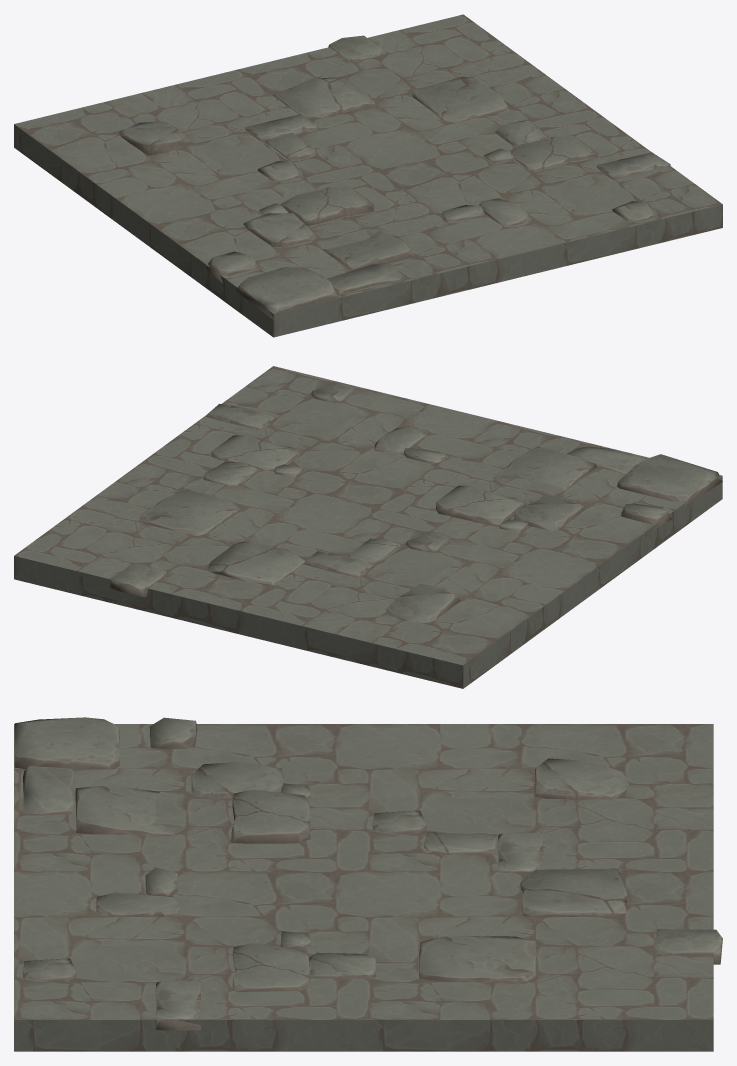
The model's file is SM_FW01_Ruins_Int_Floor_4x4_01.fbx.
The picture shows the model from 3 angles, top to bottom: view 1: azimuth 30°, elevation 25°; view 2: azimuth 150°, elevation 25°; view 3: azimuth 270°, elevation 25°; orthographic projection. The views are drawn at different scales.
Visible parts, largest first — view 1: SM_FW01_Ruins_Int_Floor_4x4_01, SM_FW01_Ruins_Int_Floor_4x4_01_LOD0; view 2: SM_FW01_Ruins_Int_Floor_4x4_01, SM_FW01_Ruins_Int_Floor_4x4_01_LOD0; view 3: SM_FW01_Ruins_Int_Floor_4x4_01, SM_FW01_Ruins_Int_Floor_4x4_01_LOD0.
Boxes of the visible parts, x1,y1,x2,y2 form: SM_FW01_Ruins_Int_Floor_4x4_01: [14, 14, 722, 337]; SM_FW01_Ruins_Int_Floor_4x4_01_LOD0: [119, 35, 670, 319]; SM_FW01_Ruins_Int_Floor_4x4_01: [14, 366, 722, 688]; SM_FW01_Ruins_Int_Floor_4x4_01_LOD0: [110, 381, 722, 623]; SM_FW01_Ruins_Int_Floor_4x4_01: [14, 724, 713, 1051]; SM_FW01_Ruins_Int_Floor_4x4_01_LOD0: [14, 717, 722, 1030].
Size of what is drawn, in the model's own units: 4.02 by 0.2739 by 4.05.
